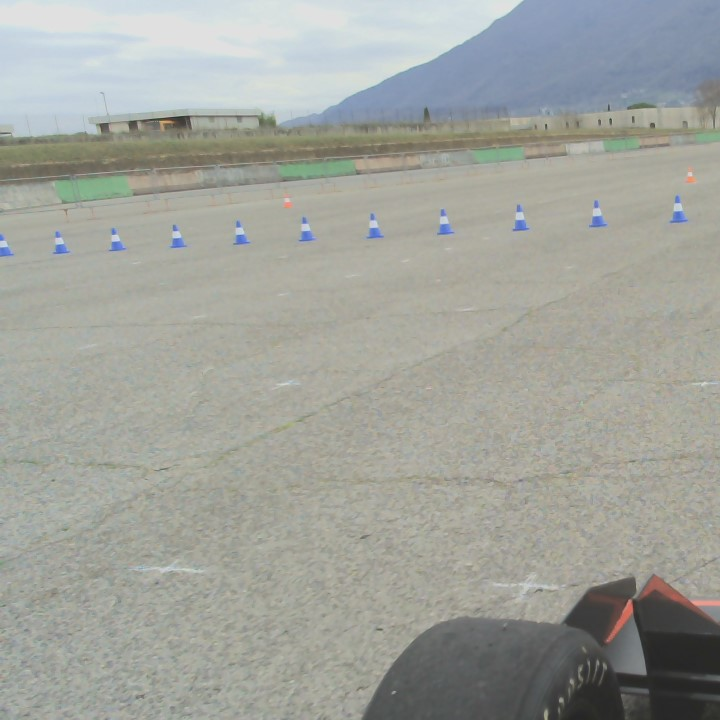cone: (588, 198, 608, 225), (671, 195, 689, 225), (298, 214, 315, 242), (513, 204, 530, 232), (169, 223, 188, 248), (233, 219, 249, 246), (368, 213, 385, 238), (439, 209, 455, 234), (109, 229, 126, 251), (55, 231, 69, 253), (1, 235, 13, 255)
